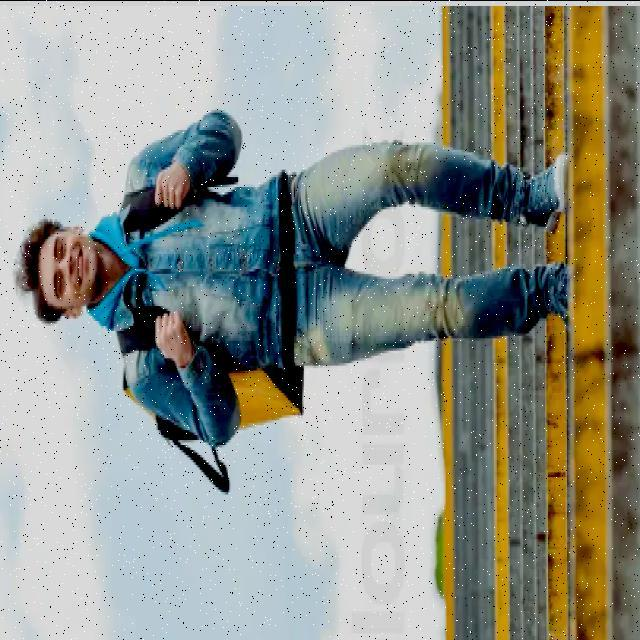face_no_mask: (36, 221, 97, 317)
